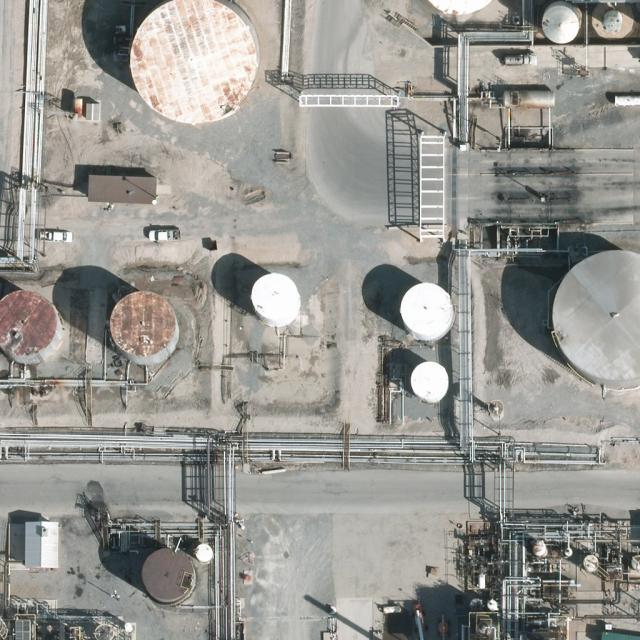vehicle: (502, 54, 538, 67), (147, 230, 180, 242), (40, 232, 74, 242)
